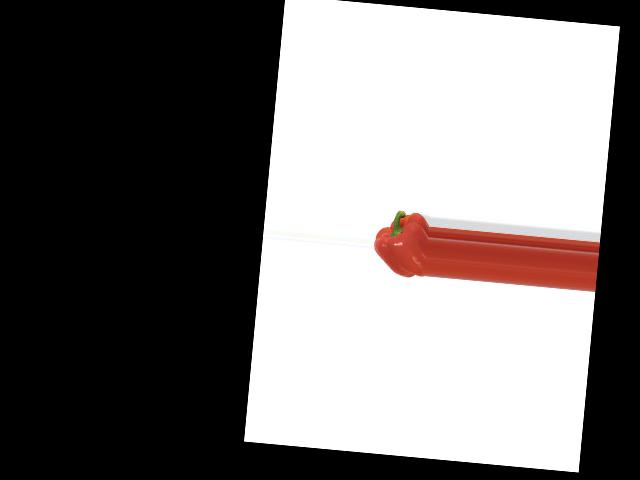bell_pepper: (370, 199, 432, 286)
